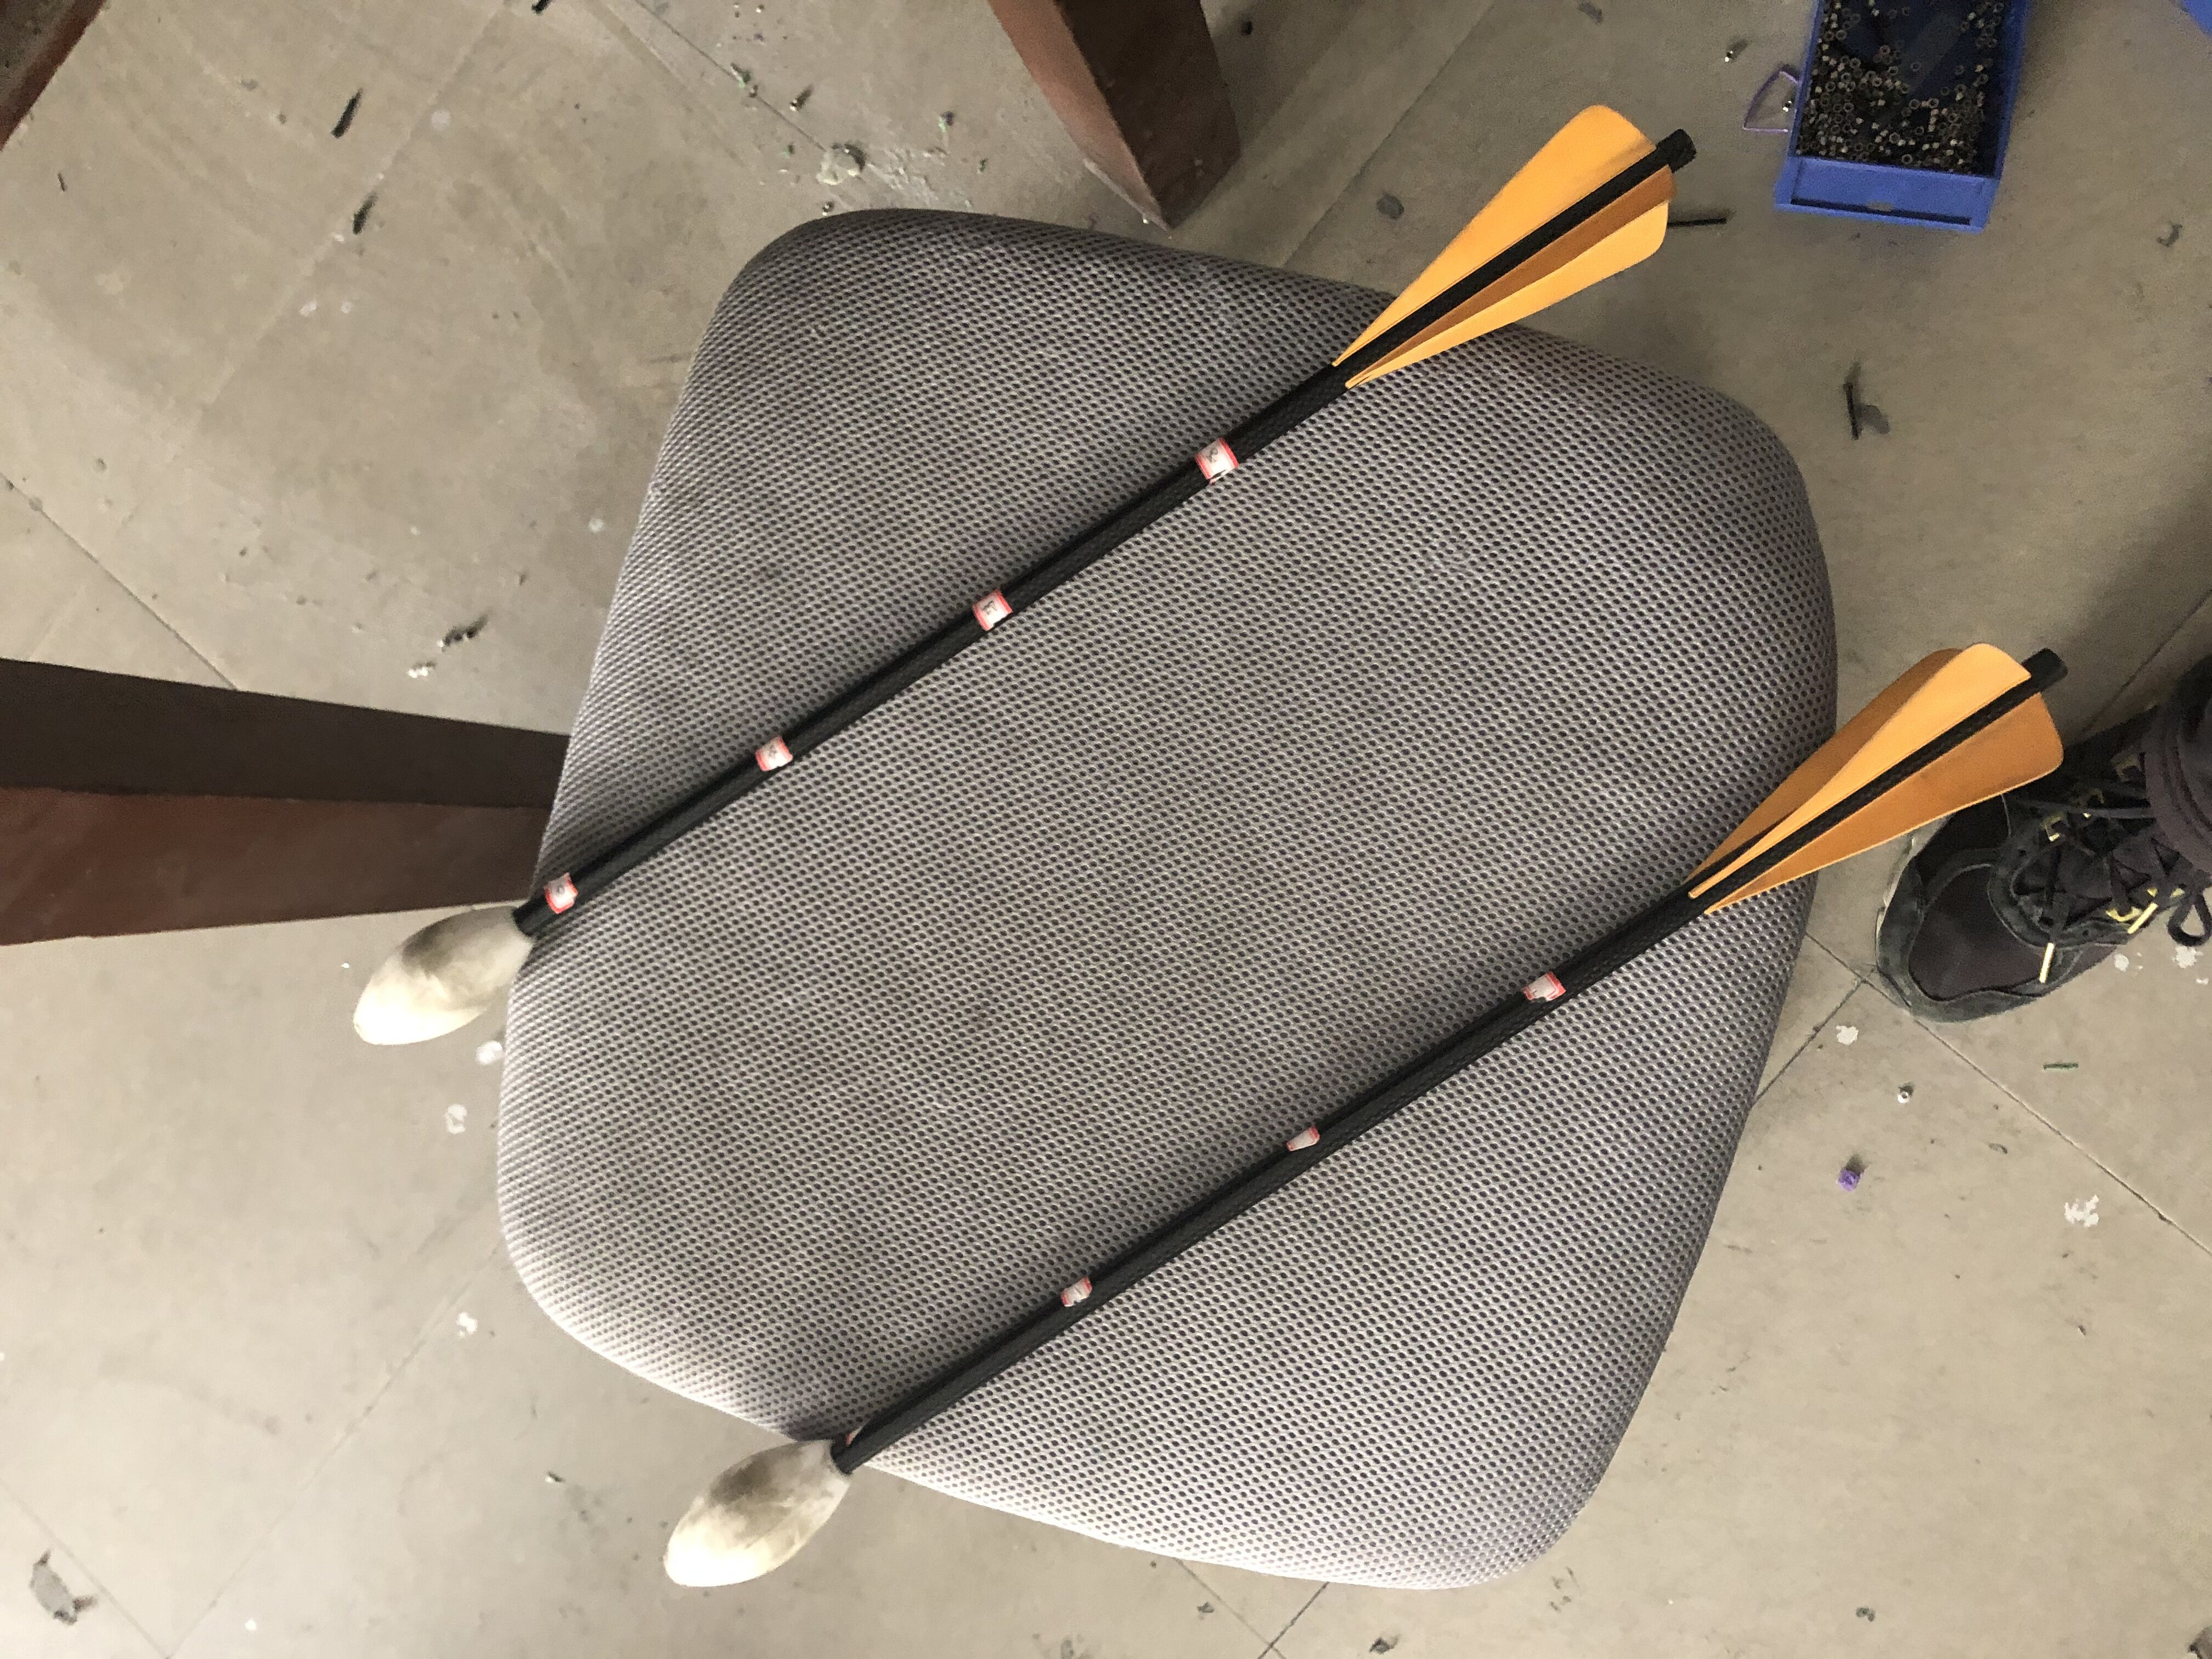arrow: (662, 636, 2076, 1591), (350, 106, 1700, 1040)
arrowFront: (662, 1436, 850, 1591), (348, 908, 538, 1046)
